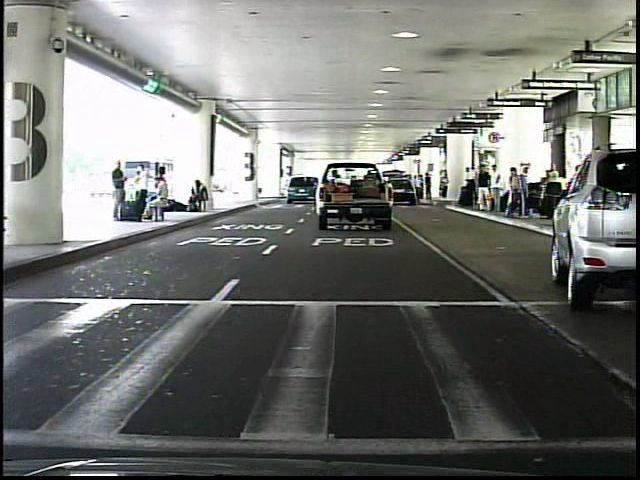person: (110, 158, 134, 226), (473, 163, 493, 217), (460, 163, 478, 209), (489, 163, 504, 216), (438, 168, 453, 205), (415, 170, 426, 203), (424, 170, 435, 202)
